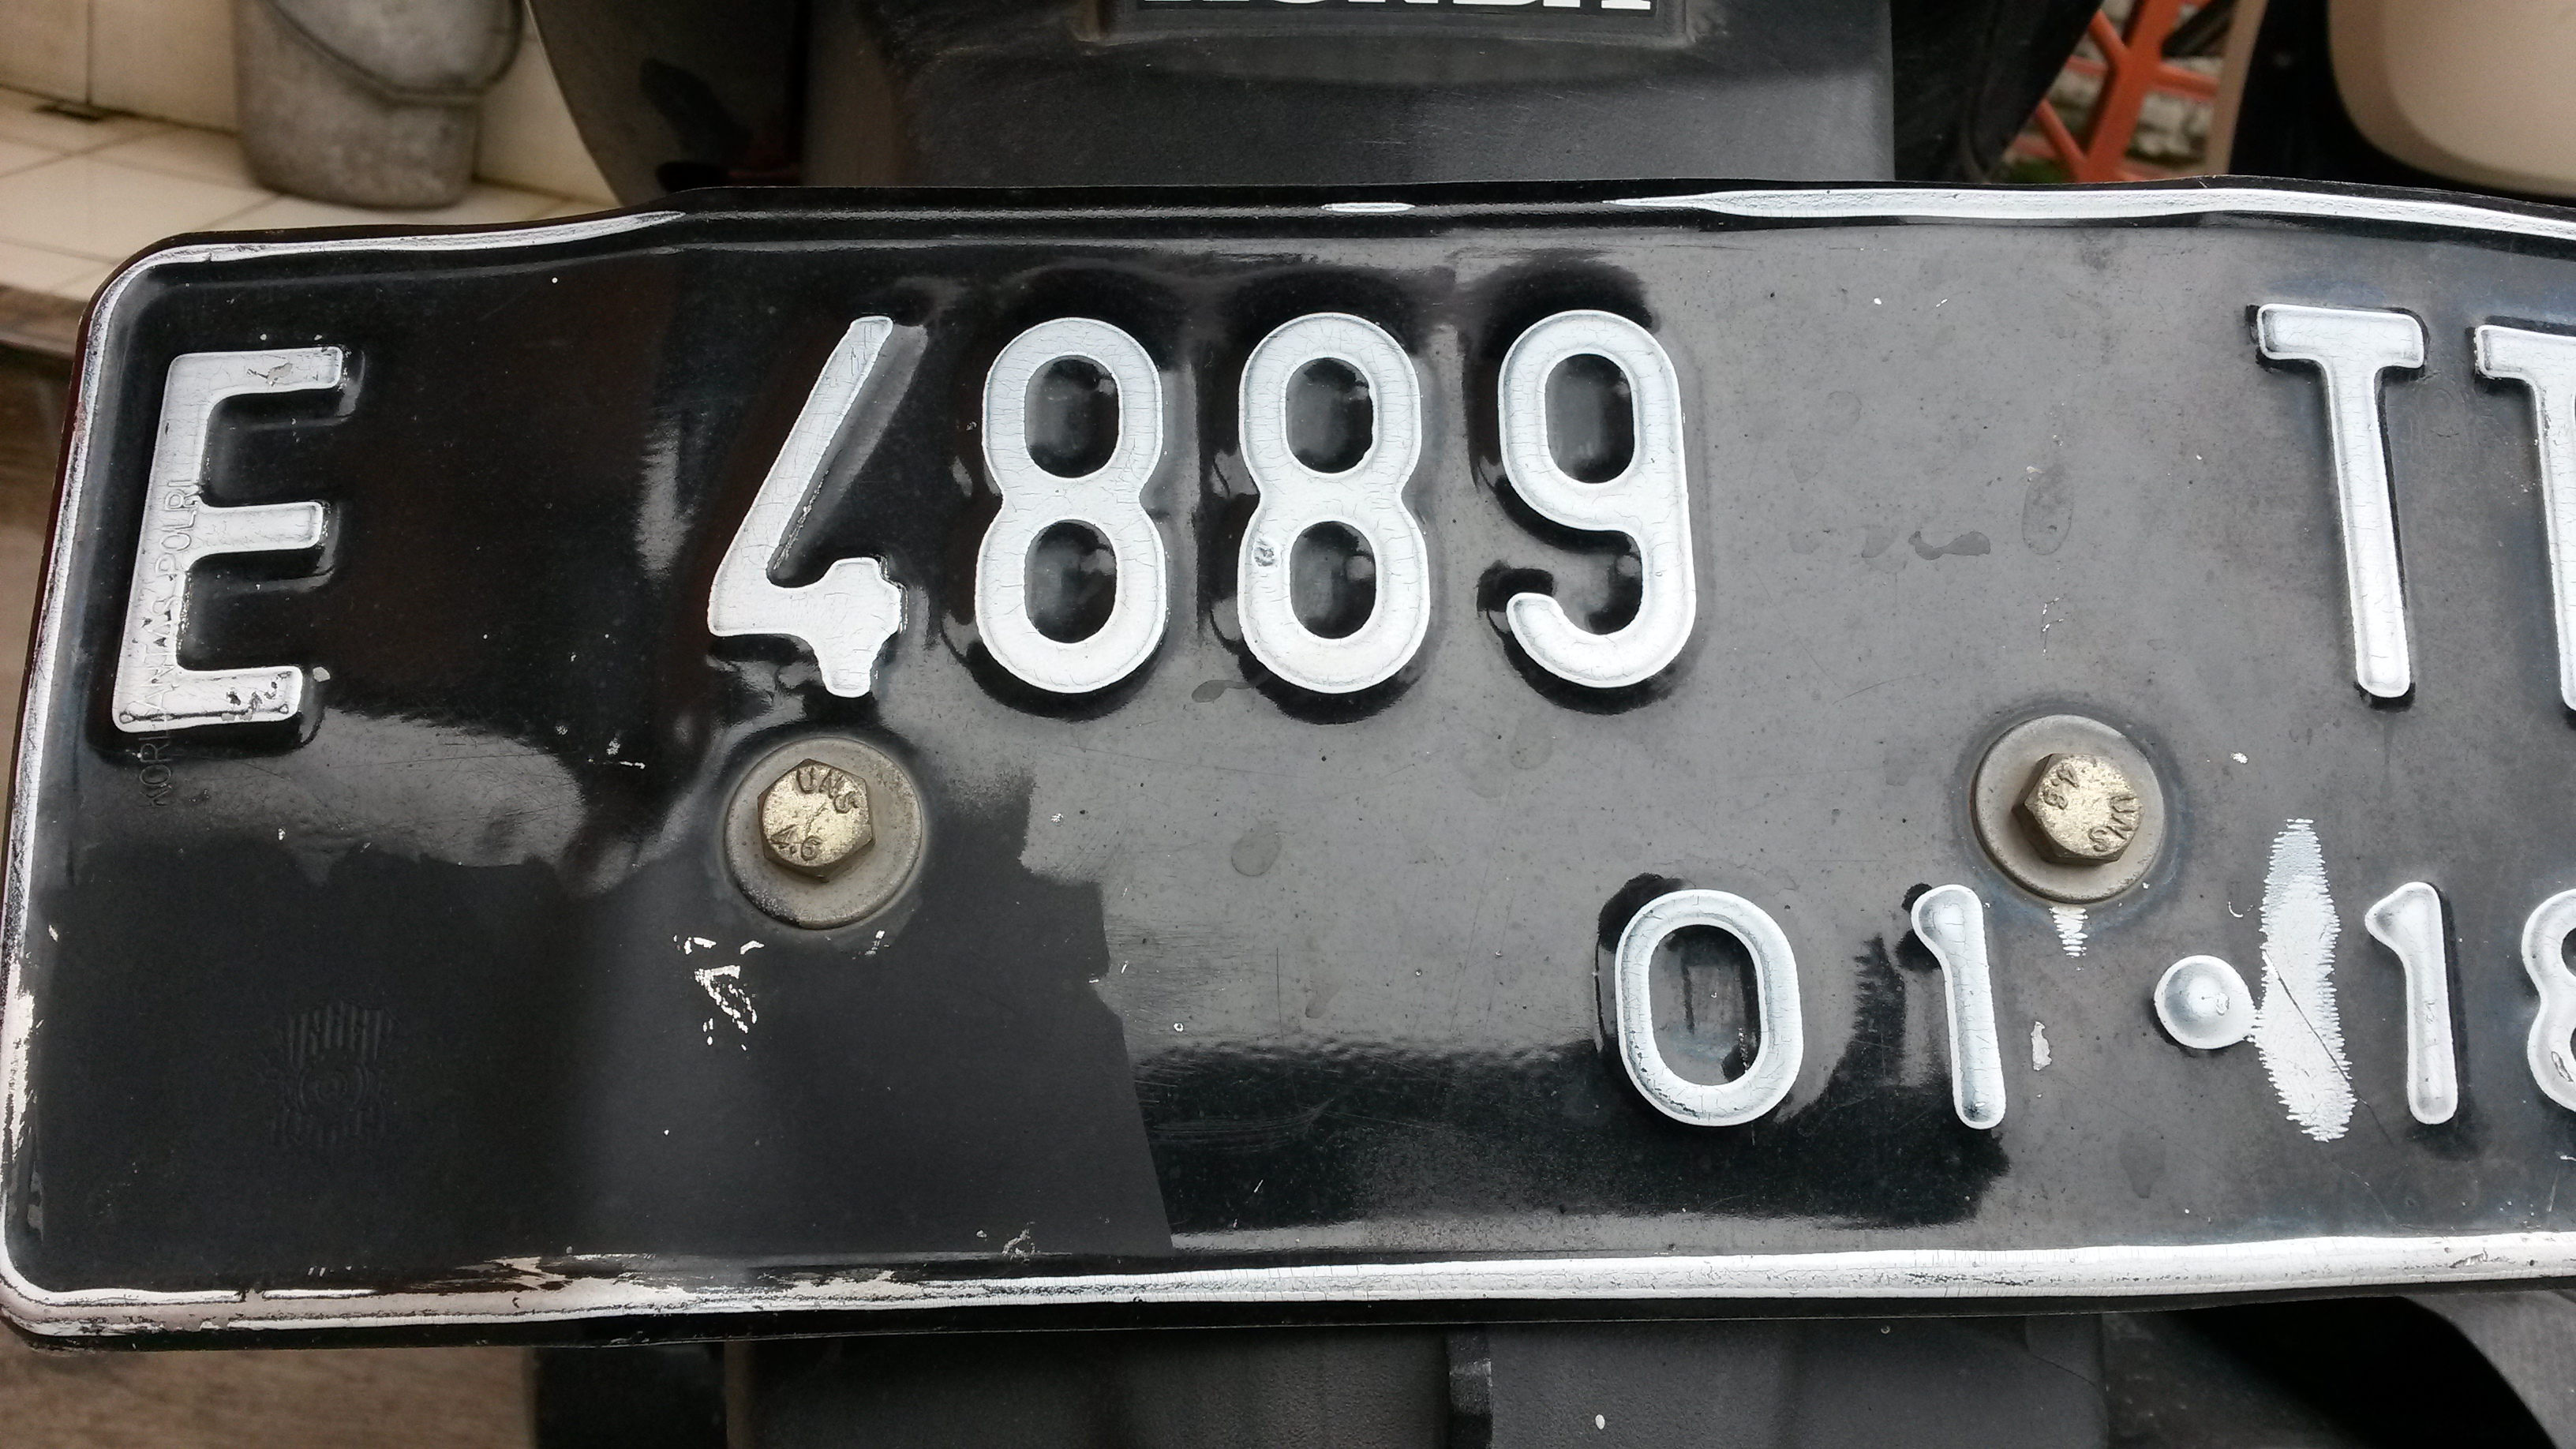plate: (1, 208, 2576, 1351)
